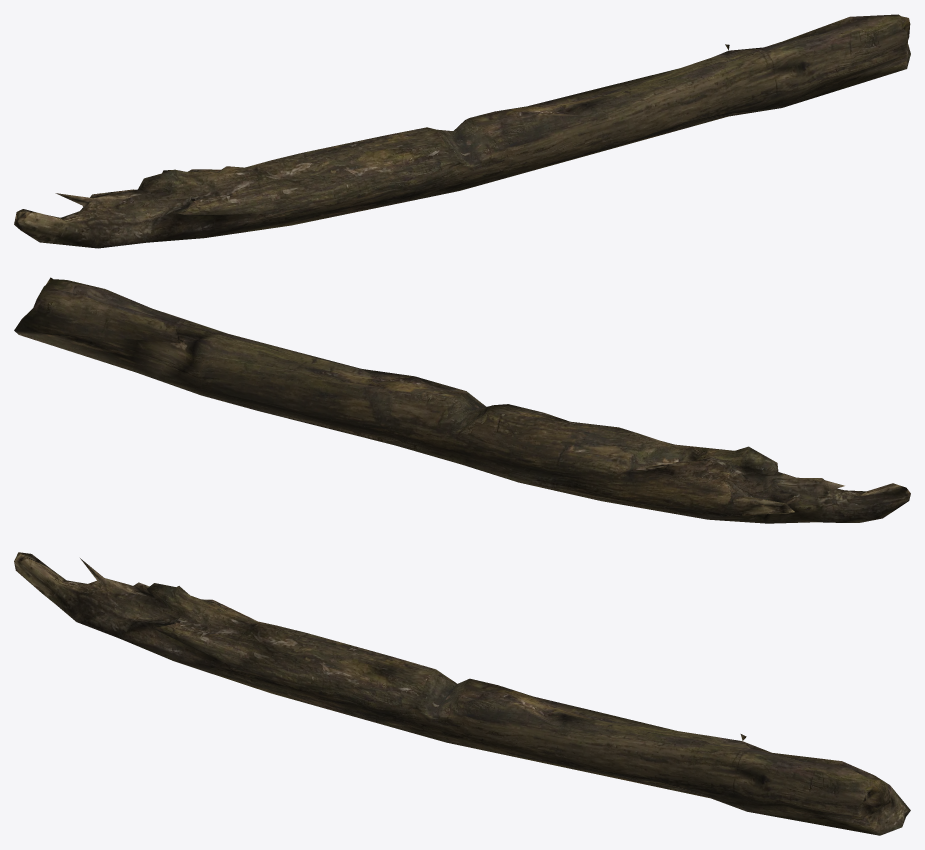
The model's file is log.glb.
3 views of the same model, one above another, from view 1: azimuth 30°, elevation 25°; view 2: azimuth 150°, elevation 25°; view 3: azimuth 330°, elevation 25° (orthographic).
Visible parts, largest first — view 1: lod1; view 2: lod1; view 3: lod1.
Part boxes in pixels (<box>): lod1: <box>14,14,910,248</box>; lod1: <box>14,277,910,523</box>; lod1: <box>14,552,910,835</box>.
Size of the model in its own units: 8.39 by 0.7617 by 0.7402.
1 material, 1 textured.
